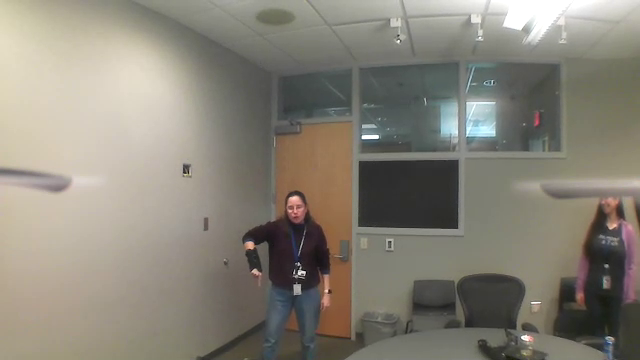down: (249, 268, 264, 289)
